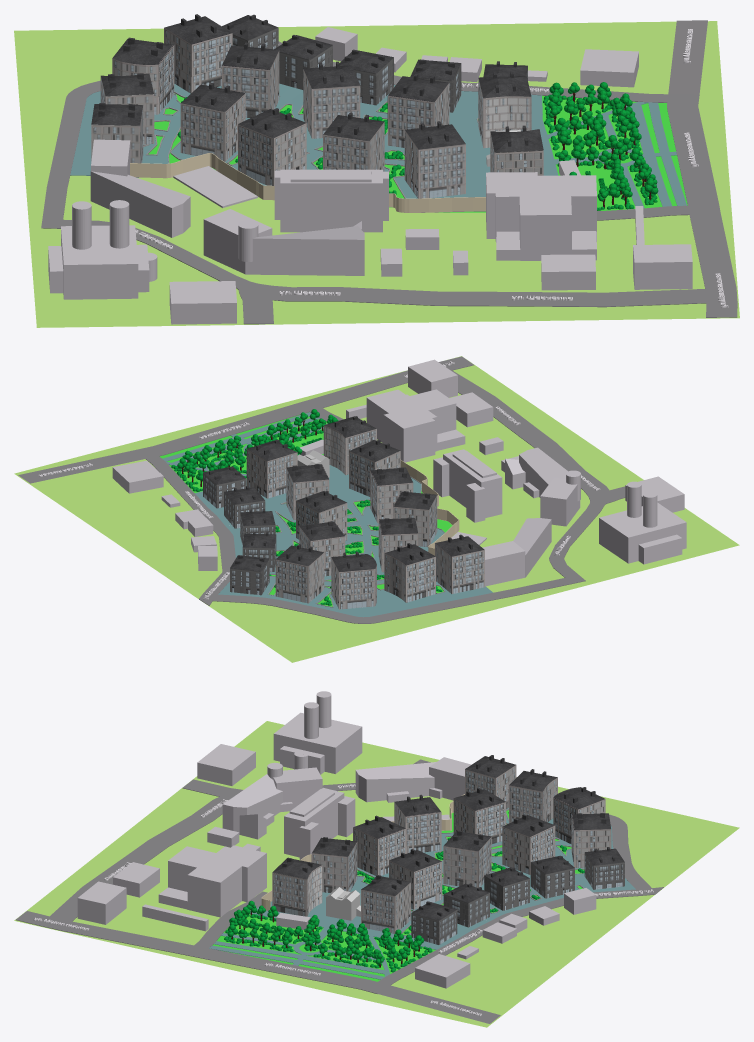
Rendered from neimark-hotel-without-textures.glb.
The picture shows the model from 3 angles, top to bottom: view 1: azimuth 30°, elevation 25°; view 2: azimuth 150°, elevation 25°; view 3: azimuth 270°, elevation 25°; orthographic projection. The views are drawn at different scales.
Parts seen in each view (by area): view 1: Plane, Road, RoadMain, Cube.009, Cylinder, Cube.002, Cube.005, Icosphere.008, Cube.001, Plane.001, Building4, Building8 (+26 smaller); view 2: Plane, Road, RoadMain, Cube.009, Cylinder, Cube.002, Cube.005, Icosphere.008, Cube.001, Building15, Building17, Building14 (+21 smaller); view 3: Plane, Road, Cube.009, RoadMain, Icosphere.008, Cylinder, Cube.002, Cube.001, Cube.005, Plane.001, Building1, Building2 (+22 smaller).
Part boxes in pixels (box(x1,y1,x2,y2)): Plane: box(14, 21, 739, 327); Road: box(41, 20, 737, 324); RoadMain: box(70, 83, 686, 208); Cube.009: box(486, 172, 644, 260); Cylinder: box(48, 200, 157, 299); Cube.002: box(203, 209, 364, 275); Cube.005: box(274, 169, 388, 232); Icosphere.008: box(543, 82, 658, 210); Cube.001: box(90, 139, 190, 237); Plane.001: box(148, 93, 687, 212); Building4: box(404, 121, 465, 198); Building8: box(238, 108, 306, 185); Plane: box(14, 356, 739, 662); Road: box(18, 356, 625, 623); RoadMain: box(162, 412, 492, 617); Cube.009: box(346, 389, 465, 462); Cylinder: box(599, 481, 686, 564); Cube.002: box(505, 447, 580, 526); Cube.005: box(433, 449, 502, 522); Icosphere.008: box(171, 409, 338, 491); Cube.001: box(482, 518, 551, 586); Building15: box(384, 543, 435, 602); Building17: box(275, 544, 324, 603); Building14: box(435, 534, 484, 593); Plane: box(14, 721, 739, 1027); Road: box(16, 759, 663, 1023); Cube.009: box(142, 845, 266, 931); RoadMain: box(209, 808, 635, 979); Icosphere.008: box(224, 900, 432, 972); Cylinder: box(273, 691, 362, 774); Cube.002: box(222, 762, 322, 839); Cube.001: box(355, 757, 471, 802); Cube.005: box(284, 787, 355, 859); Plane.001: box(212, 810, 584, 981); Building1: box(272, 857, 322, 916); Building2: box(361, 875, 410, 933).
Size of the model in its own units: 8.23 by 0.7374 by 8.23.
Materials: 153 (18 with a texture image).
